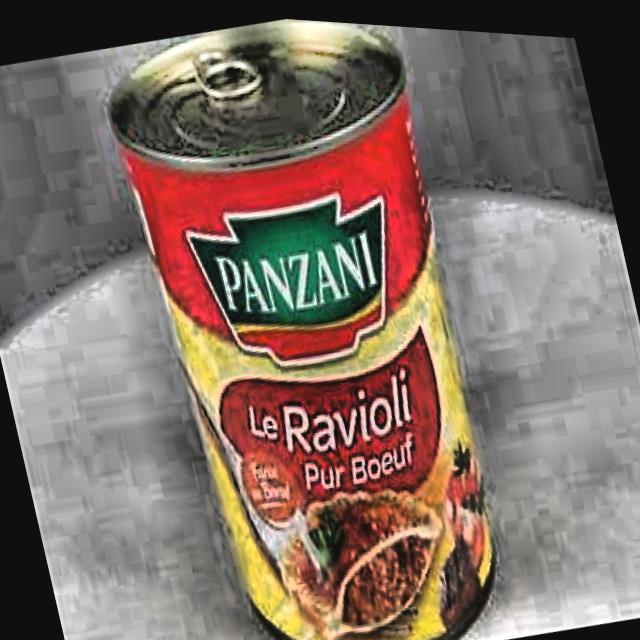Cans: (82, 4, 538, 640)
